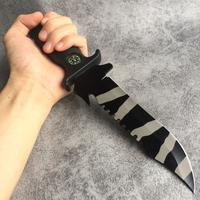knife: (12, 7, 198, 194)
